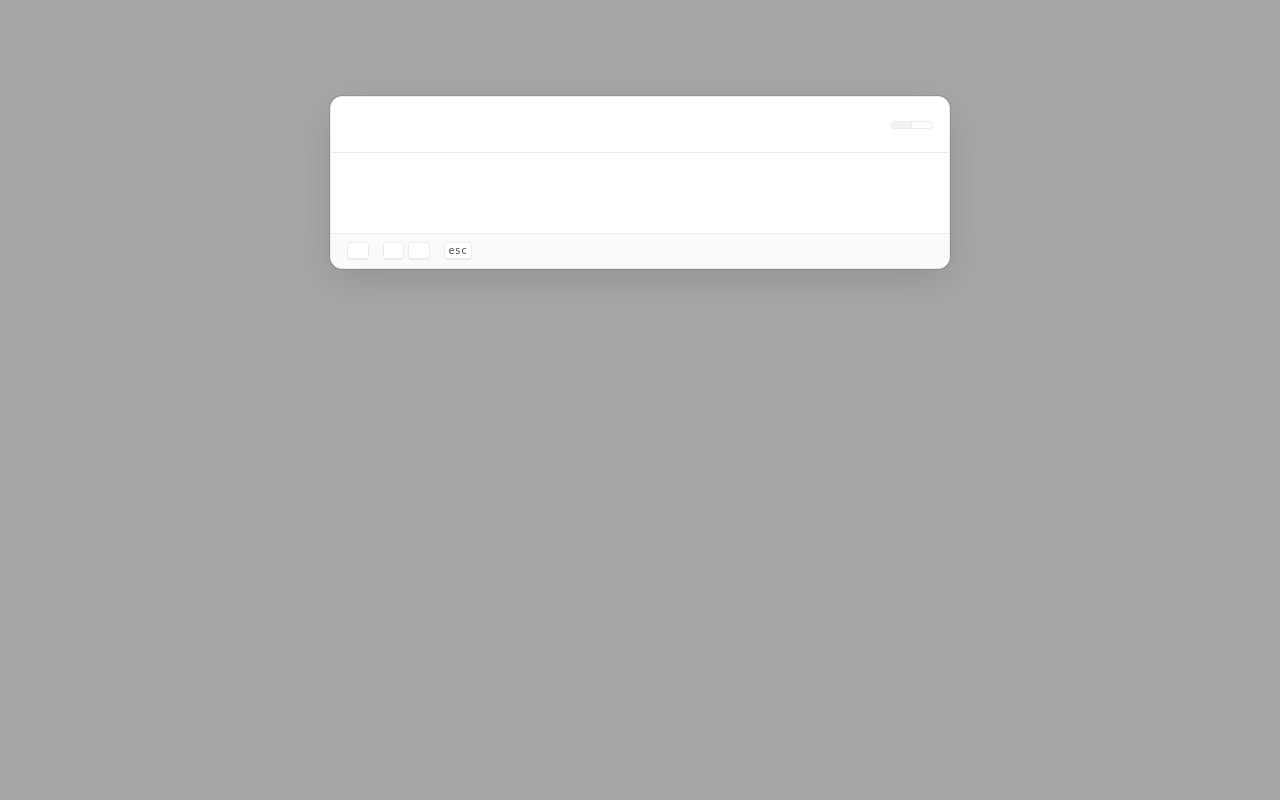
Test: GlobalSearchModal › debounces the search and renders grouped results
The width and height of the screenshot is (1280, 800).
Type "hello" into the field with class "gs-input".
click(628, 124); type("hello")  # box [377,97,880,152]
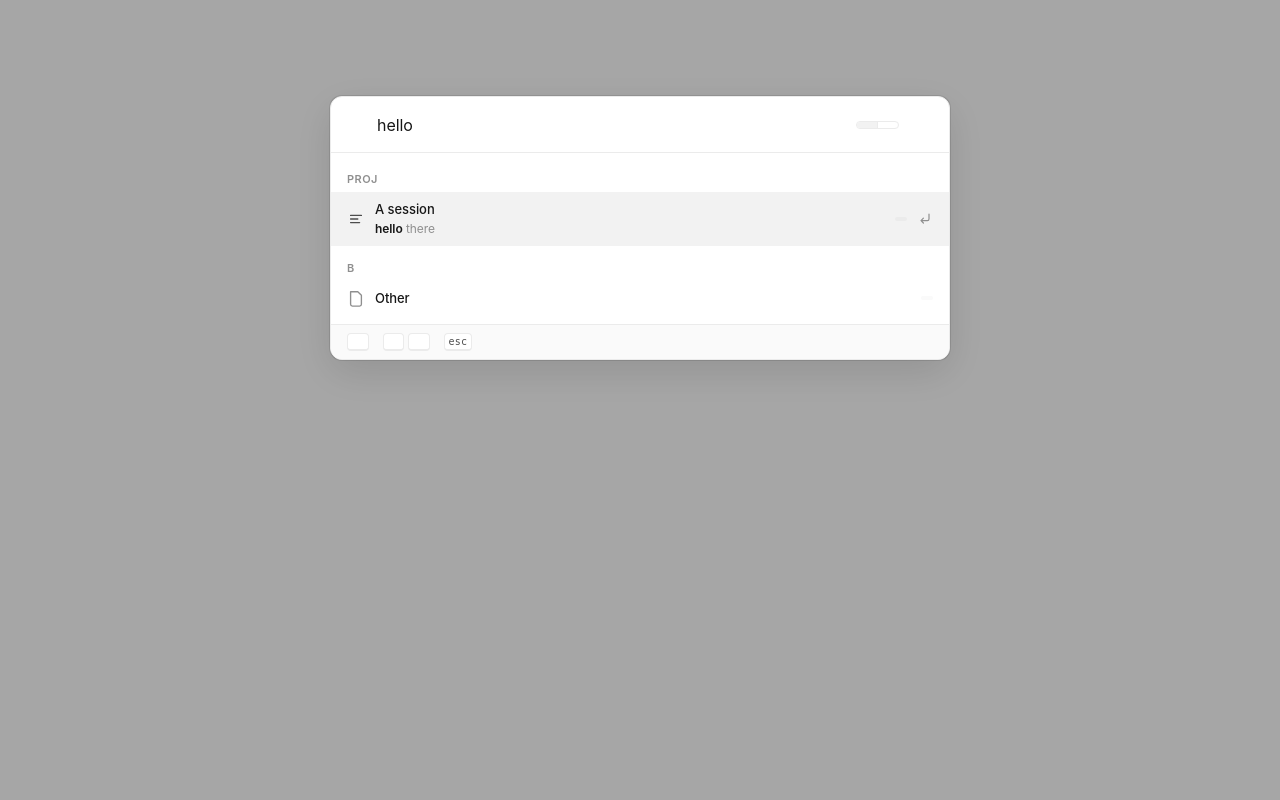
Result: the number of elements with class "gs-group" is 2 at [331,161,949,246]; [331,250,949,316]
Result: the number of buttons with class "gs-row" is 2 at [331,192,949,246]; [331,280,949,316]
